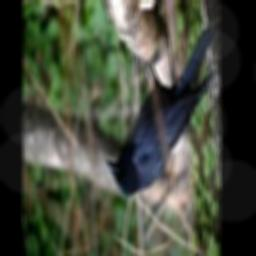Crow: (106, 23, 217, 197)
